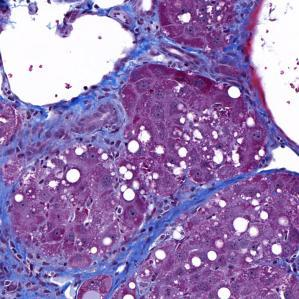fibrosis: (6, 100, 132, 156), (4, 233, 78, 296), (190, 46, 254, 87), (137, 210, 181, 250)
